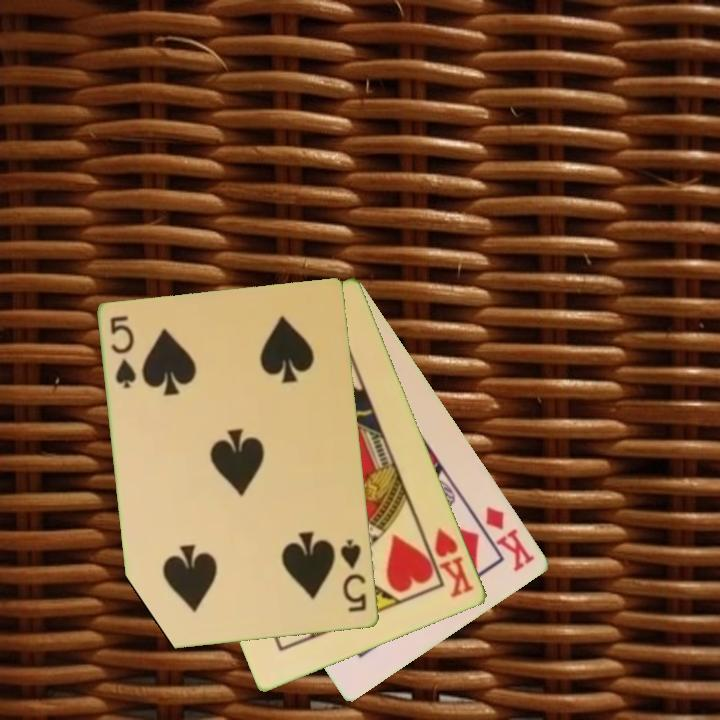5s: (107, 312, 140, 392), (337, 536, 370, 615)
Kd: (482, 503, 539, 575)
Kh: (420, 524, 477, 601)
